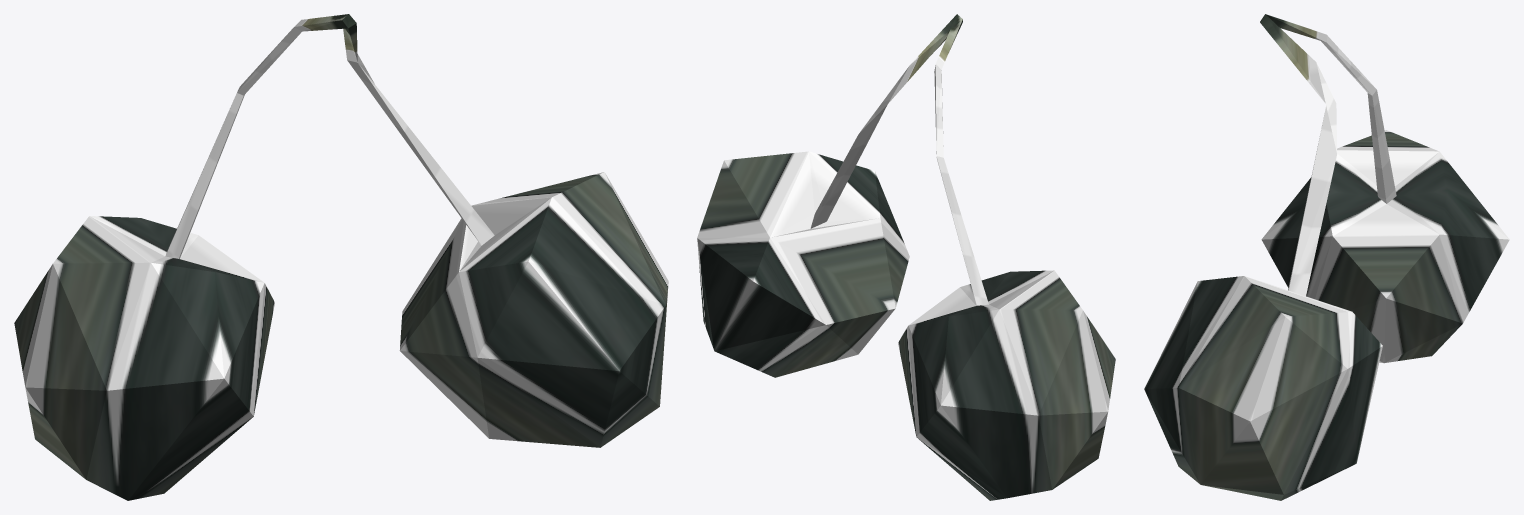
Rendered from Cherry.fbx.
3 renders of one model, left to right at view 1: azimuth 30°, elevation 25°; view 2: azimuth 150°, elevation 25°; view 3: azimuth 270°, elevation 25°, orthographic. The views are drawn at different scales.
Parts seen in each view (by area): view 1: CherryMesh; view 2: CherryMesh; view 3: CherryMesh.
Part boxes in pixels (x1,y1,x2,y2): CherryMesh: [14, 14, 668, 500]; CherryMesh: [697, 14, 1115, 500]; CherryMesh: [1144, 14, 1509, 500].
Bounding box in the file's own units: 367 × 300 × 247.
